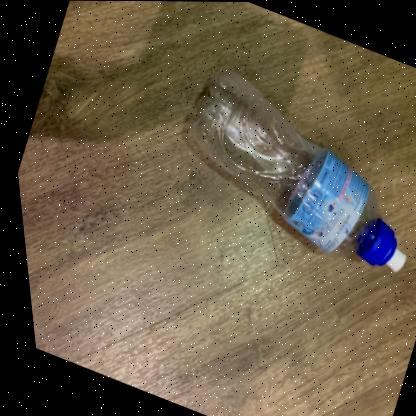Plastic: (188, 68, 398, 271)
